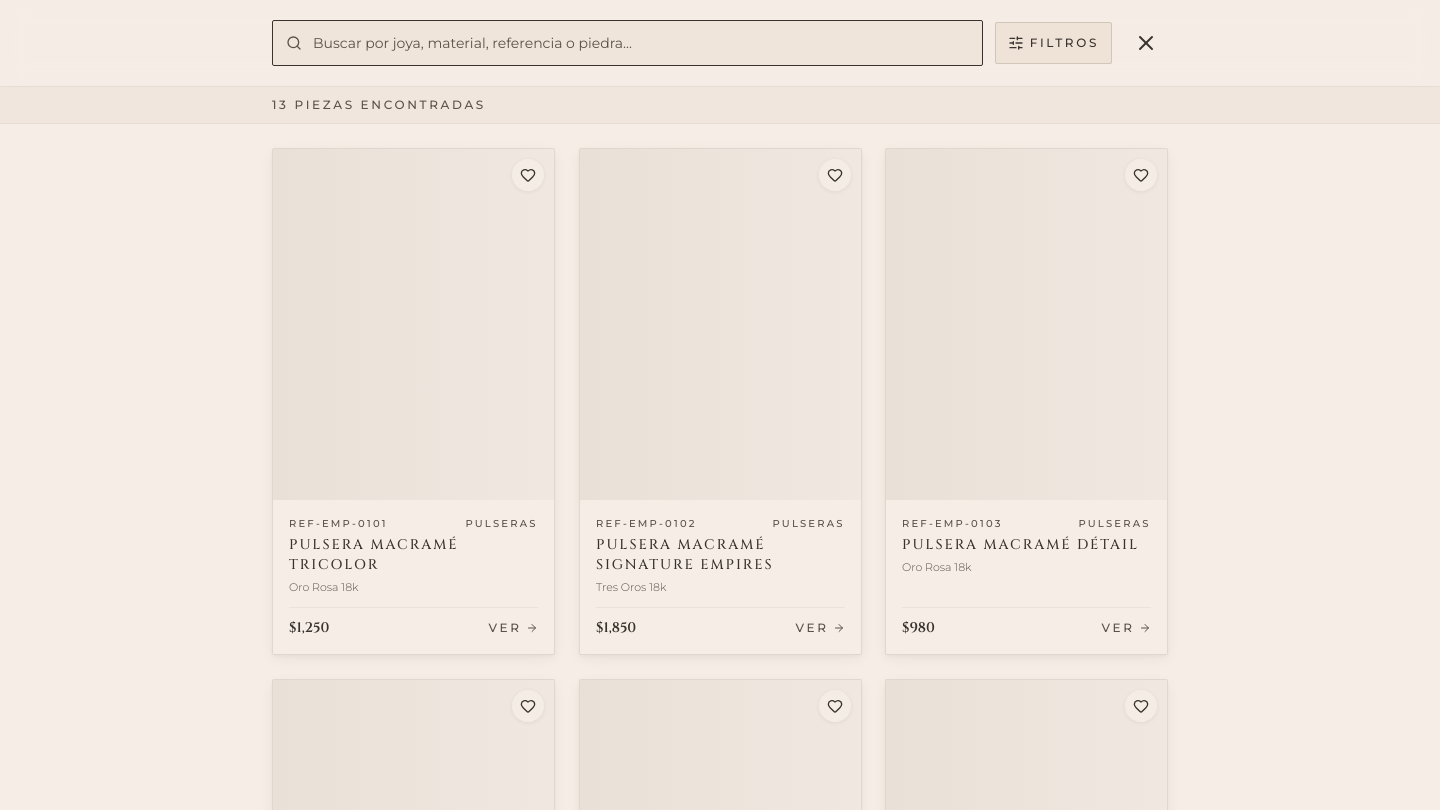
Scenario: Tier 1 - R4: Instant Search, Live Filters, Favorites & Bottom Nav › T1-R4-02: Multi-attribute category filter restricts search output
The width and height of the screenshot is (1440, 810).
# Open filters
Click the button with aria-label "Alternar filtros" at {"x": 1053, "y": 43}, box [995,22,1112,64]
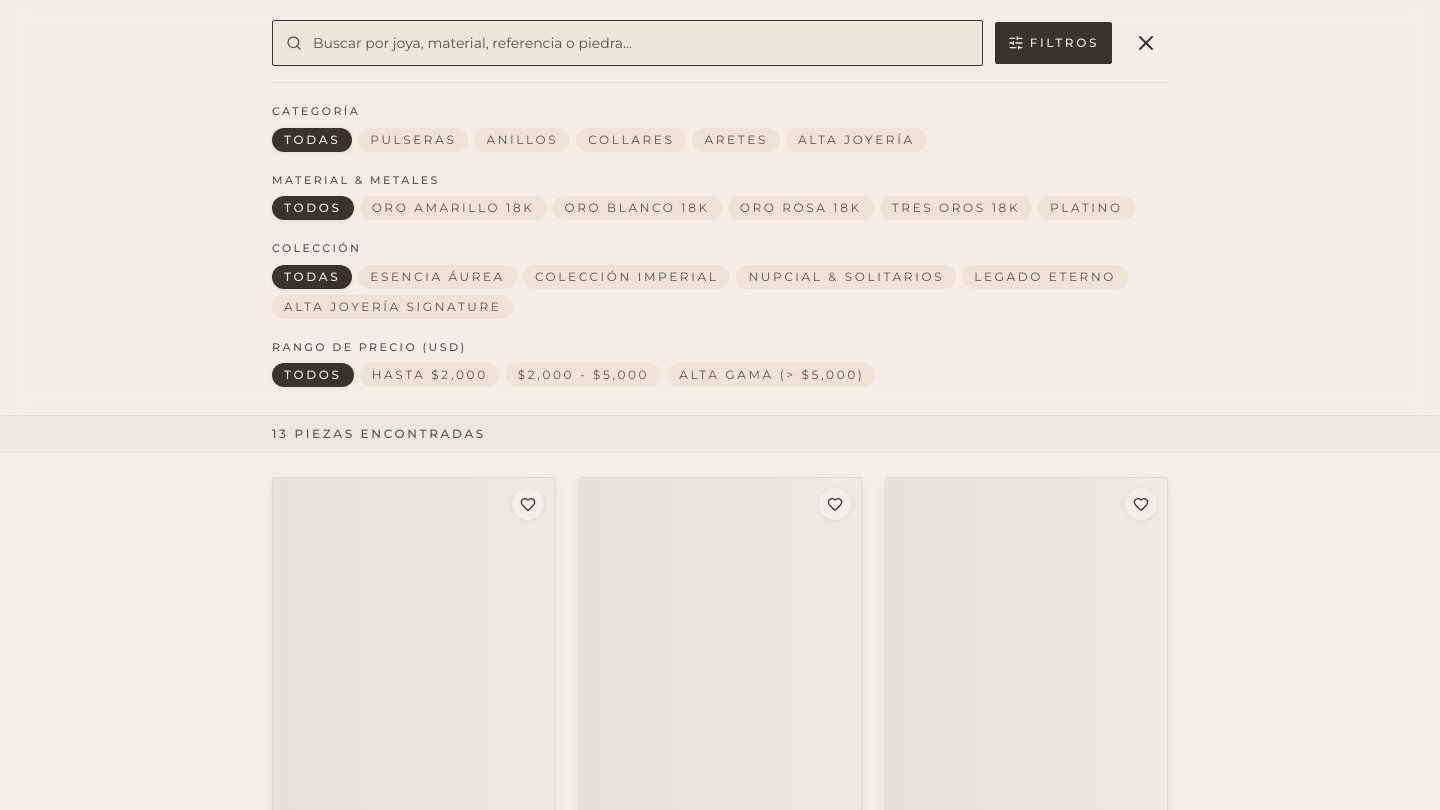
# Click 'Aretes' filter pill
Click the button "Aretes" at {"x": 736, "y": 140}, box [692,128,780,152]
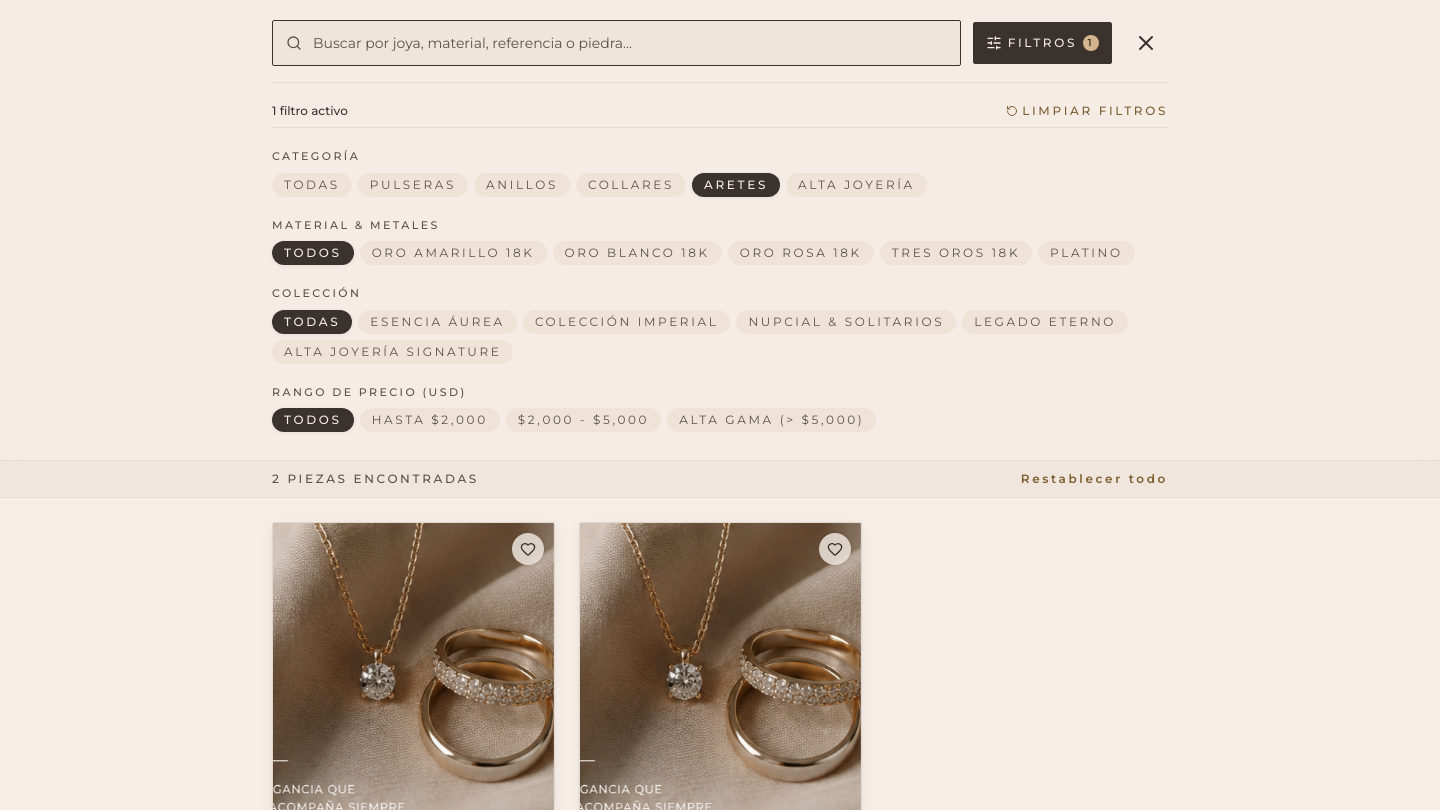
Expected: the text "2 piezas encontradas" is shown, [272,471,479,487]
